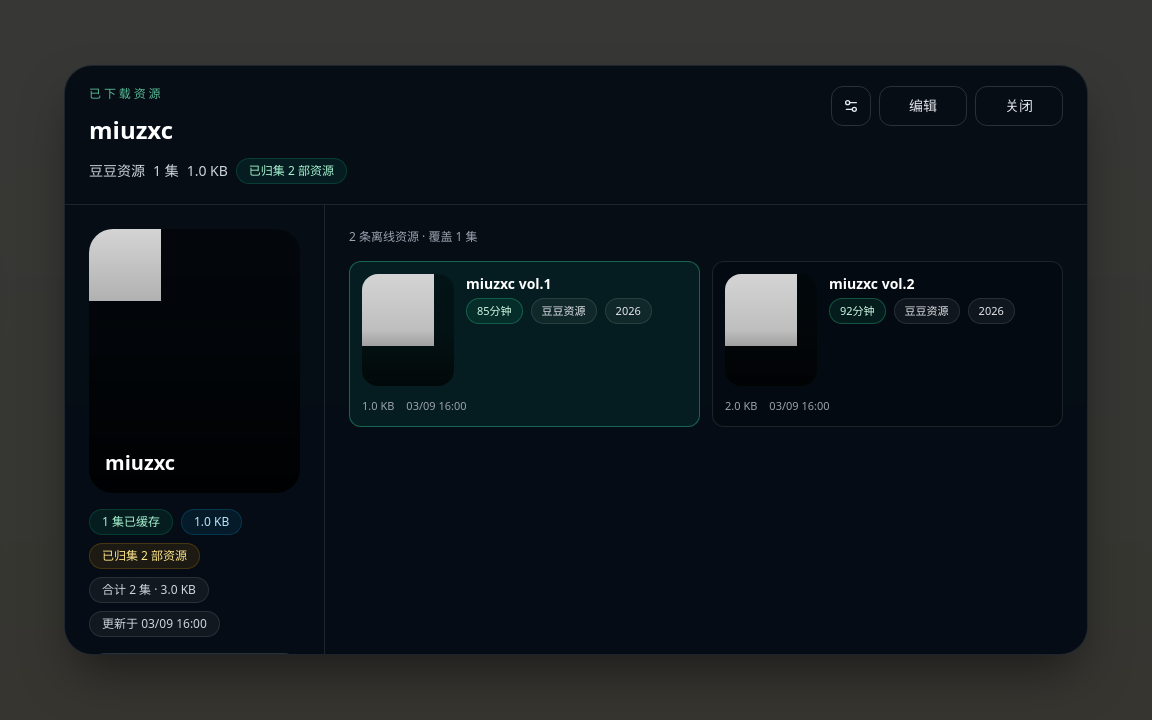
it: DownloadedContentDialog › allows setting an adult grouped resource poster as the group cover
Right-click the button with aria-label "离线播放 miuzxc vol.2" at (771, 330), box [712,261,1063,427]
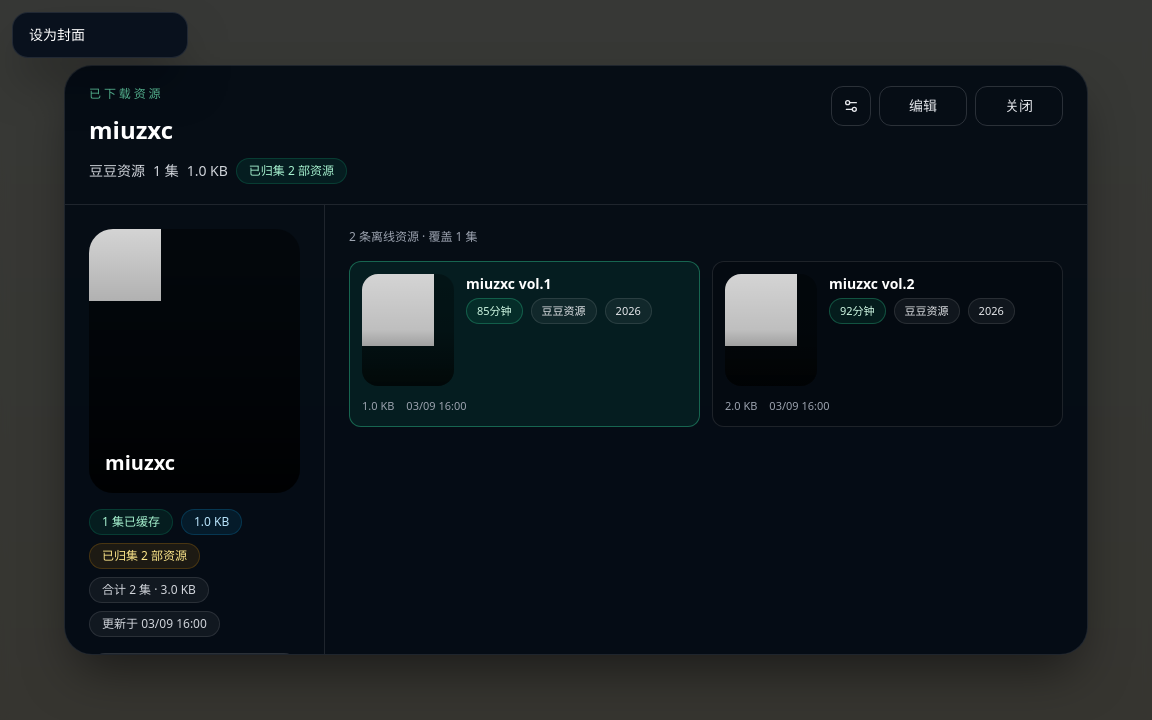
Click the menu item "设为封面" at (100, 35), box [13,13,187,57]
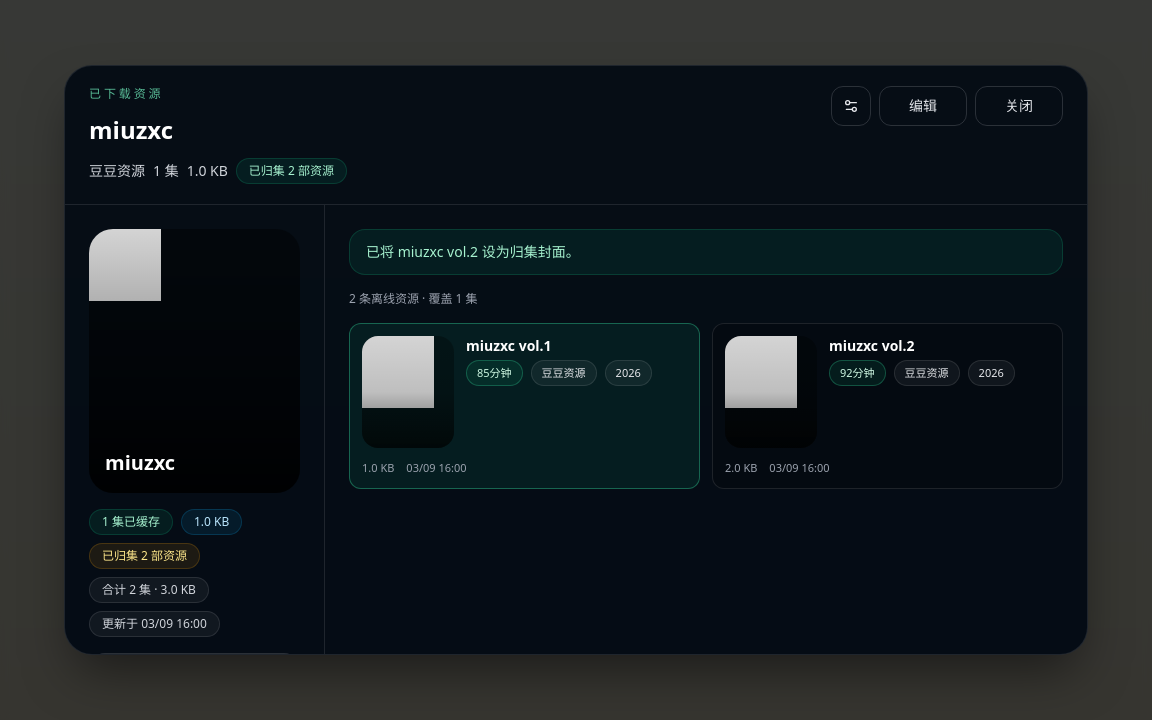
expect the text "已将 miuzxc vol.2 设为归集封面。" is shown: met, box [349,229,1063,275]
